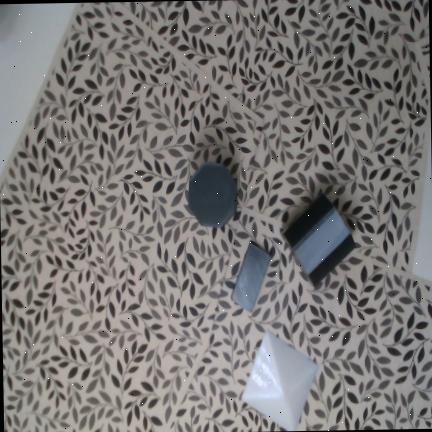Paralelepipedo: (231, 242, 271, 312)
Piramide: (240, 329, 318, 431)
Prisma_hexagonal: (281, 193, 356, 287), (188, 163, 236, 228)
